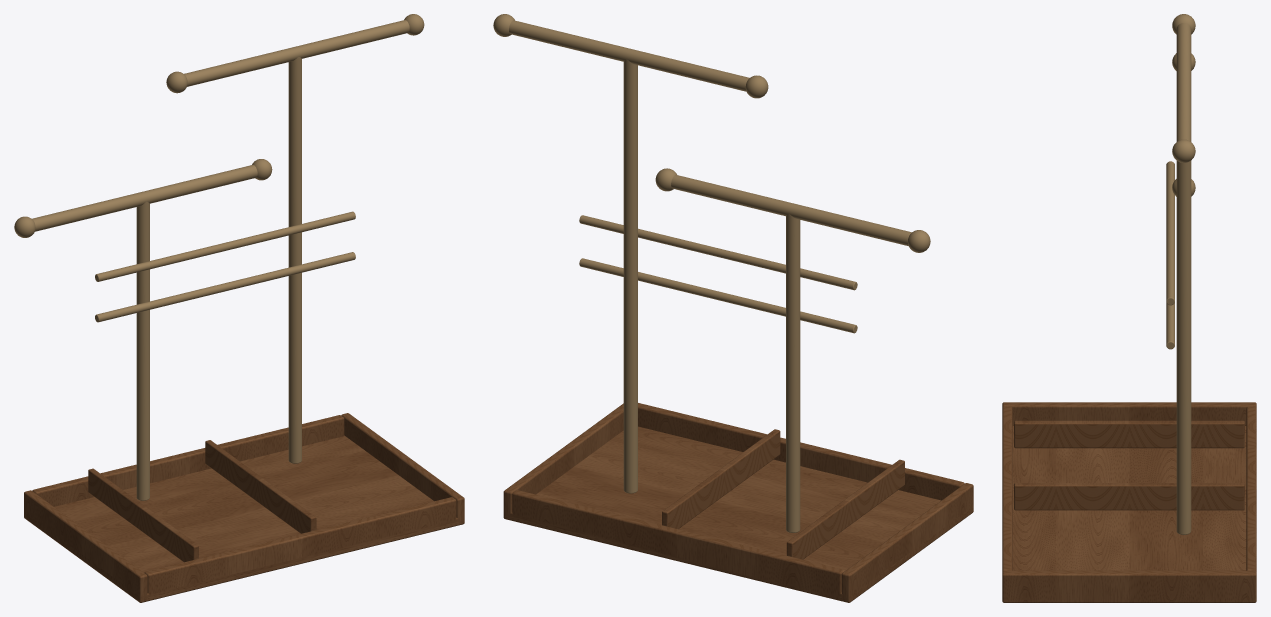
The model's file is jewel-stand.glb.
3 renders of one model, left to right at view 1: azimuth 30°, elevation 25°; view 2: azimuth 150°, elevation 25°; view 3: azimuth 270°, elevation 25°, orthographic. The views are drawn at different scales.
Parts seen in each view (by area): view 1: Divided jewelry catch tray floor, Divided jewelry catch tray side, Jewelry display upright.001, Divided jewelry catch tray side.001, Divided jewelry catch tray end, Jewelry display upright, Horizontal jewelry hanging arm, Horizontal jewelry hanging arm.001, Tray small-item divider.001, Tray small-item divider, Divided jewelry catch tray end.001, Earring cross rail.001 (+1 smaller); view 2: Divided jewelry catch tray floor, Divided jewelry catch tray side.001, Jewelry display upright.001, Divided jewelry catch tray side, Jewelry display upright, Divided jewelry catch tray end, Horizontal jewelry hanging arm.001, Horizontal jewelry hanging arm, Tray small-item divider.001, Tray small-item divider, Divided jewelry catch tray end.001, Earring cross rail.001 (+1 smaller); view 3: Divided jewelry catch tray floor, Divided jewelry catch tray end.001, Tray small-item divider, Tray small-item divider.001, Jewelry display upright.001, Divided jewelry catch tray end, Horizontal jewelry hanging arm.001, Divided jewelry catch tray side, Divided jewelry catch tray side.001, Earring cross rail.001, Jewelry-arm rounded tip.003, Earring cross rail.
Boxes of the visible parts, x1=… form: Divided jewelry catch tray floor: x1=24, y1=435, x2=464, y2=602; Divided jewelry catch tray side: x1=144, y1=497, x2=456, y2=600; Jewelry display upright.001: x1=288, y1=57, x2=301, y2=463; Divided jewelry catch tray side.001: x1=32, y1=415, x2=344, y2=506; Divided jewelry catch tray end: x1=24, y1=490, x2=147, y2=602; Jewelry display upright: x1=136, y1=202, x2=149, y2=500; Horizontal jewelry hanging arm: x1=32, y1=165, x2=257, y2=231; Horizontal jewelry hanging arm.001: x1=184, y1=20, x2=409, y2=86; Tray small-item divider.001: x1=205, y1=440, x2=316, y2=533; Tray small-item divider: x1=88, y1=468, x2=198, y2=562; Divided jewelry catch tray end.001: x1=341, y1=413, x2=464, y2=525; Earring cross rail.001: x1=95, y1=211, x2=355, y2=281; Divided jewelry catch tray floor: x1=504, y1=426, x2=973, y2=602; Divided jewelry catch tray side.001: x1=512, y1=490, x2=844, y2=599; Jewelry display upright.001: x1=623, y1=59, x2=637, y2=493; Divided jewelry catch tray side: x1=638, y1=403, x2=964, y2=500; Jewelry display upright: x1=786, y1=214, x2=800, y2=532; Divided jewelry catch tray end: x1=841, y1=483, x2=973, y2=602; Horizontal jewelry hanging arm.001: x1=509, y1=20, x2=749, y2=91; Horizontal jewelry hanging arm: x1=671, y1=175, x2=911, y2=245; Tray small-item divider.001: x1=662, y1=429, x2=780, y2=528; Tray small-item divider: x1=786, y1=459, x2=904, y2=559; Divided jewelry catch tray end.001: x1=503, y1=403, x2=623, y2=520; Earring cross rail.001: x1=579, y1=215, x2=857, y2=290; Divided jewelry catch tray floor: x1=1002, y1=426, x2=1256, y2=601; Divided jewelry catch tray end.001: x1=1002, y1=570, x2=1256, y2=602; Tray small-item divider: x1=1014, y1=420, x2=1244, y2=448; Tray small-item divider.001: x1=1014, y1=483, x2=1244, y2=510; Jewelry display upright.001: x1=1176, y1=161, x2=1191, y2=534; Divided jewelry catch tray end: x1=1002, y1=402, x2=1256, y2=425; Horizontal jewelry hanging arm.001: x1=1176, y1=23, x2=1191, y2=141; Divided jewelry catch tray side: x1=1002, y1=406, x2=1012, y2=571; Divided jewelry catch tray side.001: x1=1246, y1=406, x2=1256, y2=571; Earring cross rail.001: x1=1166, y1=161, x2=1174, y2=305; Jewelry-arm rounded tip.003: x1=1172, y1=139, x2=1195, y2=162; Earring cross rail: x1=1166, y1=303, x2=1174, y2=349.
Size of the model in its own units: 0.348 by 0.36 by 0.173.
3 materials, 3 textured.
